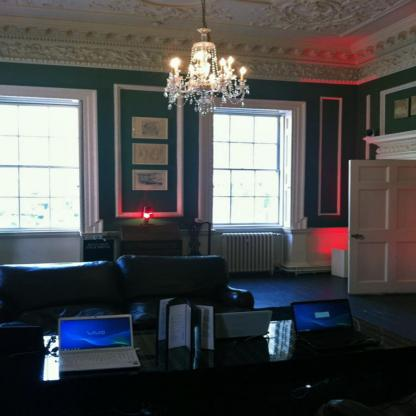board: (56, 315, 141, 372), (290, 297, 375, 351), (212, 310, 271, 340)
